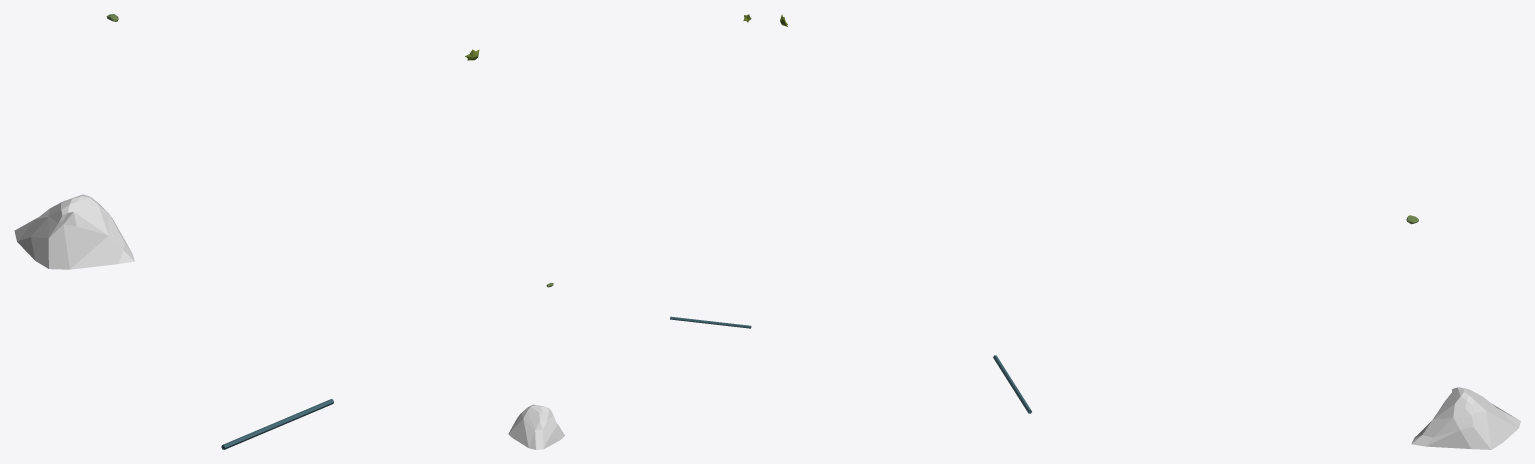
The picture shows the model from 3 angles, left to right: view 1: azimuth 30°, elevation 25°; view 2: azimuth 150°, elevation 25°; view 3: azimuth 270°, elevation 25°; orthographic projection. The views are drawn at different scales.
Parts seen in each view (by area): view 1: Box15898_white_0, Cylinder1496_metal_0; view 2: Box15898_white_0, Cylinder1496_metal_0; view 3: Box15898_white_0.
Boxes of the visible parts, box(x1,y1,x2,y2) form: Box15898_white_0: box(14, 194, 134, 269); Cylinder1496_metal_0: box(221, 399, 333, 449); Box15898_white_0: box(508, 404, 564, 449); Cylinder1496_metal_0: box(670, 316, 751, 328); Box15898_white_0: box(1411, 387, 1520, 449).
Bounding box in the file's own units: 989 × 2791 × 4418.
